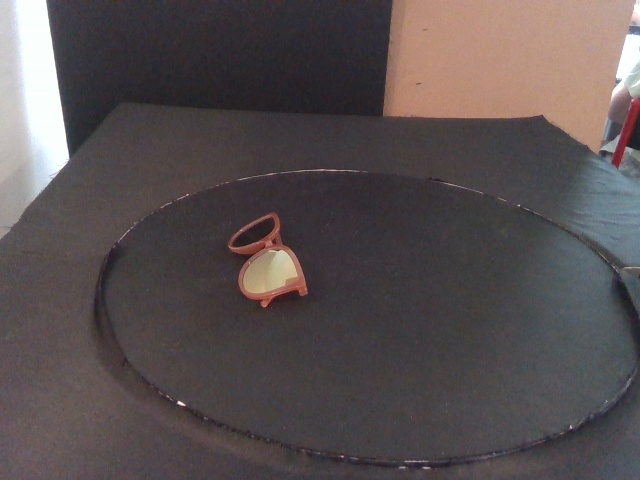glasses: (227, 211, 309, 308)
